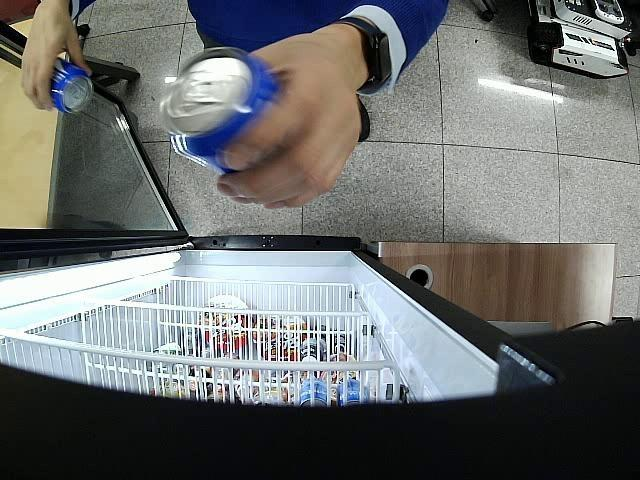13_pocariSweat: (159, 48, 285, 176), (51, 58, 92, 114)
